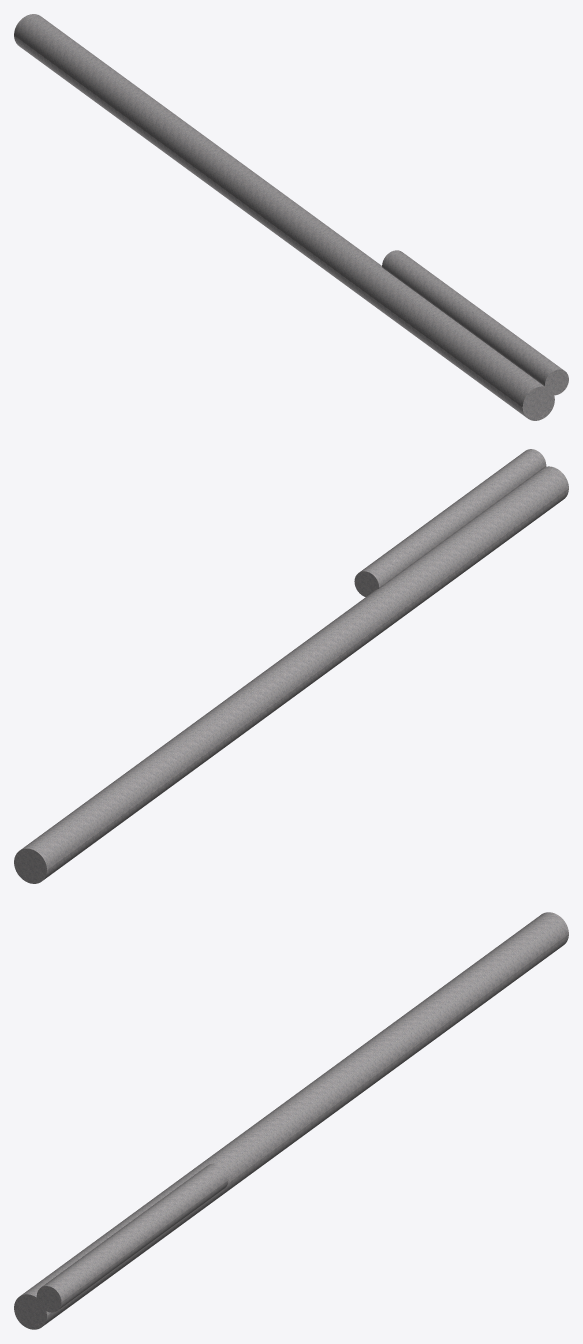
3 renders of one model, top to bottom at view 1: azimuth 30°, elevation 25°; view 2: azimuth 150°, elevation 25°; view 3: azimuth 330°, elevation 25°, orthographic. The views are drawn at different scales.
Parts seen in each view (by area): view 1: 0_3_1_2_0_2_3_2; view 2: 0_3_1_2_0_2_3_2; view 3: 0_3_1_2_0_2_3_2.
Part boxes in pixels (bbox=[...]): 0_3_1_2_0_2_3_2: bbox=[14, 14, 568, 420]; 0_3_1_2_0_2_3_2: bbox=[14, 449, 568, 883]; 0_3_1_2_0_2_3_2: bbox=[14, 912, 568, 1329].
Bounding box in the file's own units: 1.15 × 1.1 × 21.9.
2 materials, 2 textured.
